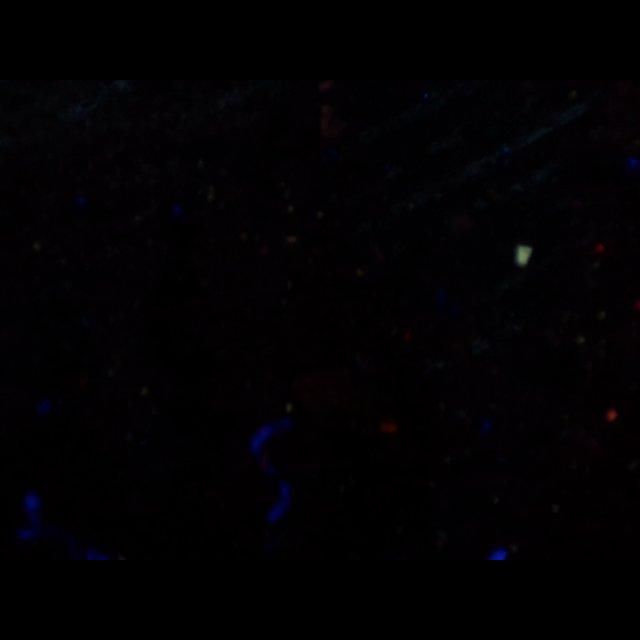microbeads: (514, 242, 532, 268)
